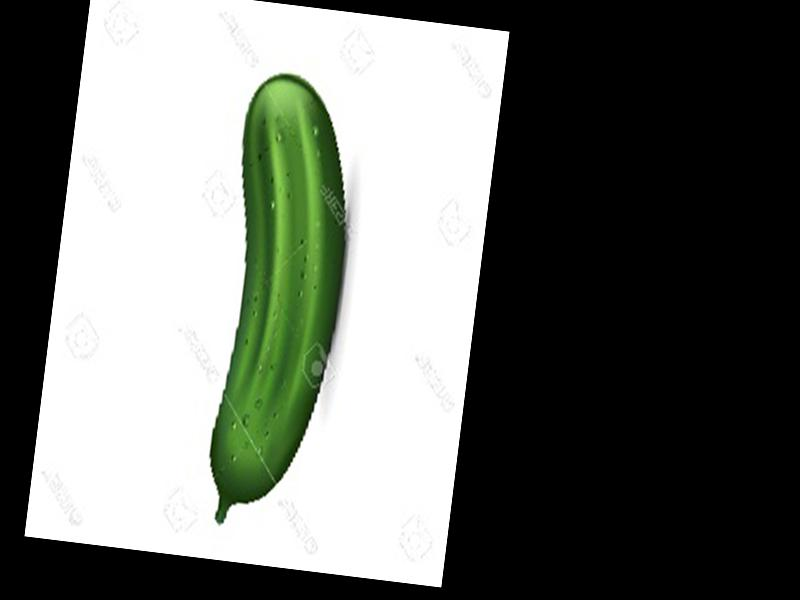Cucumber: (196, 69, 367, 534)
